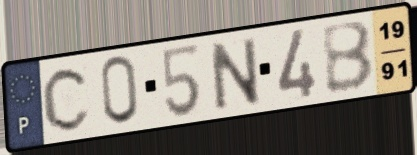0: (97, 53, 141, 129)
4: (275, 25, 319, 103)
5: (160, 40, 204, 121)
B: (319, 18, 376, 97)
C: (40, 64, 93, 134)
N: (207, 33, 264, 114)
